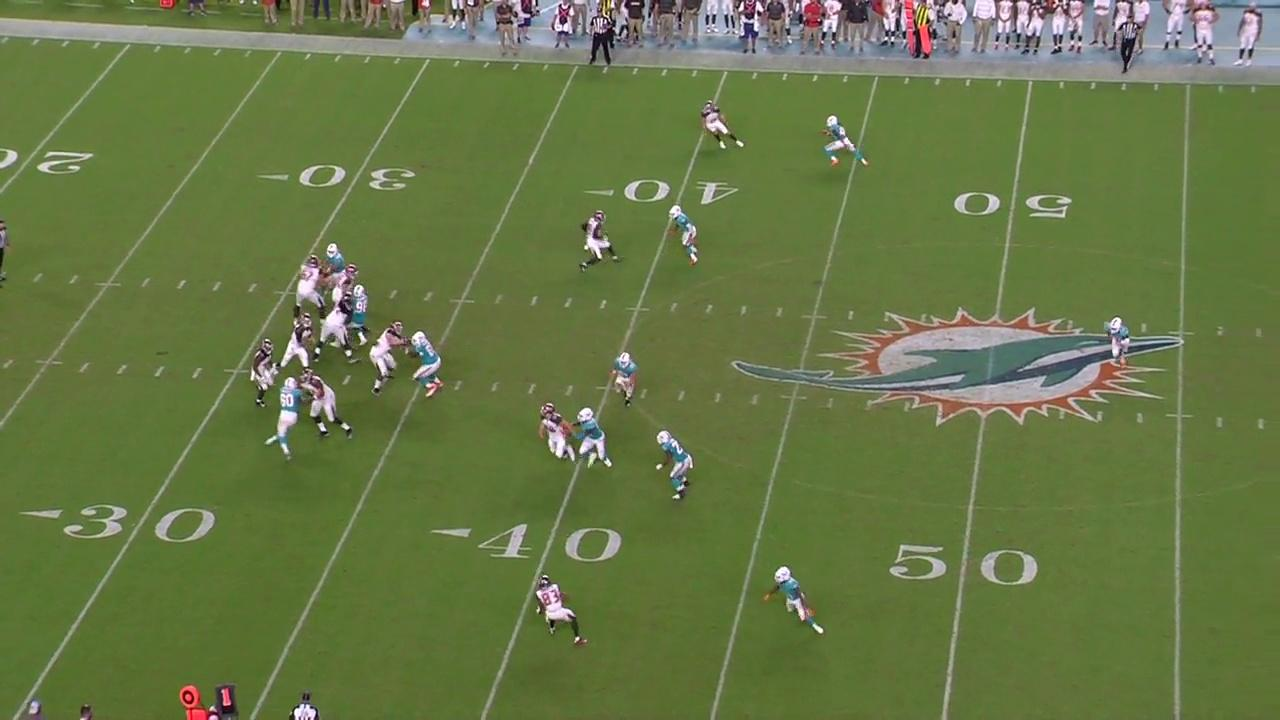five_hash: (35, 357, 64, 367), (94, 280, 122, 289), (1164, 412, 1194, 420), (780, 393, 809, 401), (1167, 329, 1196, 337), (223, 368, 251, 376), (801, 313, 829, 321), (626, 305, 650, 313), (449, 298, 476, 305), (274, 290, 297, 297)
hash: (29, 269, 47, 286), (188, 365, 204, 382), (450, 378, 466, 393), (1134, 409, 1147, 426), (139, 275, 153, 290), (210, 279, 224, 294), (490, 292, 505, 306), (526, 293, 541, 307), (340, 372, 353, 388), (526, 380, 539, 396), (676, 387, 689, 403), (1213, 415, 1226, 431), (711, 390, 725, 404), (667, 300, 681, 314), (701, 302, 715, 316), (245, 281, 258, 296), (2, 357, 15, 372), (76, 361, 91, 374), (152, 365, 165, 380), (824, 395, 837, 410), (1255, 416, 1268, 431), (1215, 323, 1227, 339), (562, 295, 575, 309), (844, 307, 857, 321), (388, 286, 400, 301), (115, 363, 128, 376), (422, 290, 435, 303), (488, 380, 501, 393), (772, 304, 785, 317), (175, 277, 187, 291), (563, 384, 575, 398), (639, 387, 651, 401), (748, 392, 760, 406), (1253, 326, 1265, 340), (1139, 321, 1151, 335), (67, 273, 80, 285), (739, 304, 750, 316), (599, 298, 608, 311)
marker: (902, 0, 918, 56)
number: (887, 540, 1041, 591), (61, 498, 217, 548), (477, 521, 623, 566), (951, 187, 1074, 224), (297, 162, 418, 197), (620, 176, 741, 210)
